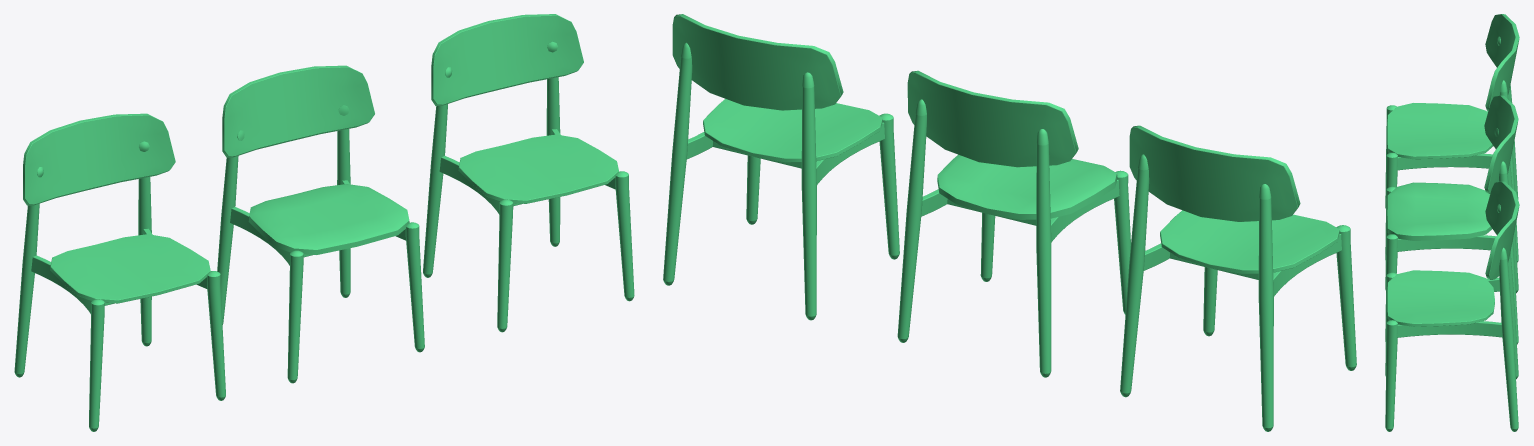
The model's file is sample.obj.
3 views of the same model, side by side, from view 1: azimuth 30°, elevation 25°; view 2: azimuth 150°, elevation 25°; view 3: azimuth 270°, elevation 25° (orthographic). The views are drawn at different scales.
Parts seen in each view (by area): view 1: Rectangle294618440, Rectangle294618471, Rectangle294618458, Rectangle294618469, Rectangle294618457, Rectangle294618439, OilTank027, OilTank003, OilTank033, OilTank001, OilTank035, OilTank029 (+9 smaller); view 2: Rectangle294618440, Rectangle294618458, Rectangle294618471, Rectangle294618469, Rectangle294618439, Rectangle294618457, OilTank033, OilTank027, OilTank003, OilTank034, OilTank005, OilTank028 (+9 smaller); view 3: Rectangle294618439, Rectangle294618469, Rectangle294618457, Rectangle294618440, Rectangle294618471, Rectangle294618458, OilTank005, Rectangle294618443, OilTank002, Rectangle294618467, Rectangle294618461, OilTank036 (+9 smaller).
Boxes of the visible parts, left/top/right/bottom form: Rectangle294618440: left=431, top=14, right=583, bottom=105; Rectangle294618471: left=222, top=65, right=374, bottom=157; Rectangle294618458: left=23, top=113, right=175, bottom=205; Rectangle294618469: left=248, top=184, right=409, bottom=254; Rectangle294618457: left=50, top=234, right=210, bottom=303; Rectangle294618439: left=458, top=134, right=618, bottom=203; OilTank027: left=14, top=203, right=39, bottom=377; OilTank003: left=423, top=104, right=447, bottom=277; OilTank033: left=217, top=156, right=238, bottom=324; OilTank001: left=497, top=199, right=513, bottom=332; OilTank035: left=287, top=250, right=303, bottom=383; OilTank029: left=89, top=299, right=104, bottom=431; Rectangle294618440: left=672, top=14, right=843, bottom=110; Rectangle294618458: left=1129, top=125, right=1300, bottom=221; Rectangle294618471: left=907, top=70, right=1078, bottom=167; Rectangle294618469: left=937, top=154, right=1117, bottom=219; Rectangle294618439: left=703, top=99, right=882, bottom=162; Rectangle294618457: left=1160, top=210, right=1339, bottom=273; OilTank033: left=1036, top=129, right=1051, bottom=377; OilTank027: left=1258, top=184, right=1273, bottom=431; OilTank003: left=801, top=72, right=816, bottom=320; OilTank034: left=897, top=99, right=926, bottom=342; OilTank005: left=663, top=42, right=692, bottom=285; OilTank028: left=1120, top=154, right=1149, bottom=397; Rectangle294618439: left=1387, top=270, right=1494, bottom=326; Rectangle294618469: left=1387, top=182, right=1492, bottom=240; Rectangle294618457: left=1387, top=103, right=1493, bottom=159; Rectangle294618440: left=1485, top=181, right=1519, bottom=279; Rectangle294618471: left=1484, top=95, right=1518, bottom=193; Rectangle294618458: left=1485, top=14, right=1519, bottom=110; OilTank005: left=1499, top=247, right=1518, bottom=431; Rectangle294618443: left=1397, top=321, right=1502, bottom=337; OilTank002: left=1385, top=320, right=1397, bottom=431; Rectangle294618467: left=1397, top=235, right=1495, bottom=251; Rectangle294618461: left=1397, top=153, right=1492, bottom=170; OilTank036: left=1385, top=234, right=1397, bottom=341.
Bounding box in the file's own units: 1952 × 797 × 483.
